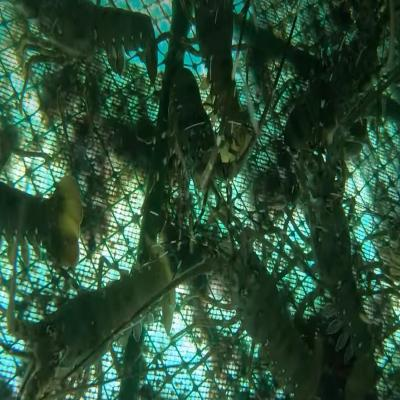lobster: (306, 162, 370, 354), (220, 243, 296, 365), (167, 69, 224, 195)
